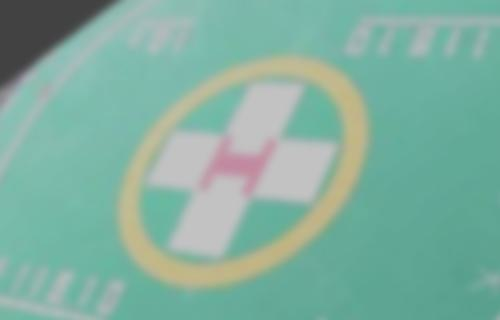Apron: (115, 49, 381, 296)
